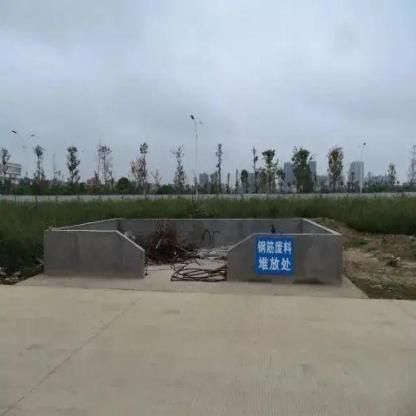rebar: (135, 218, 201, 277), (166, 259, 230, 283), (269, 224, 283, 235)
